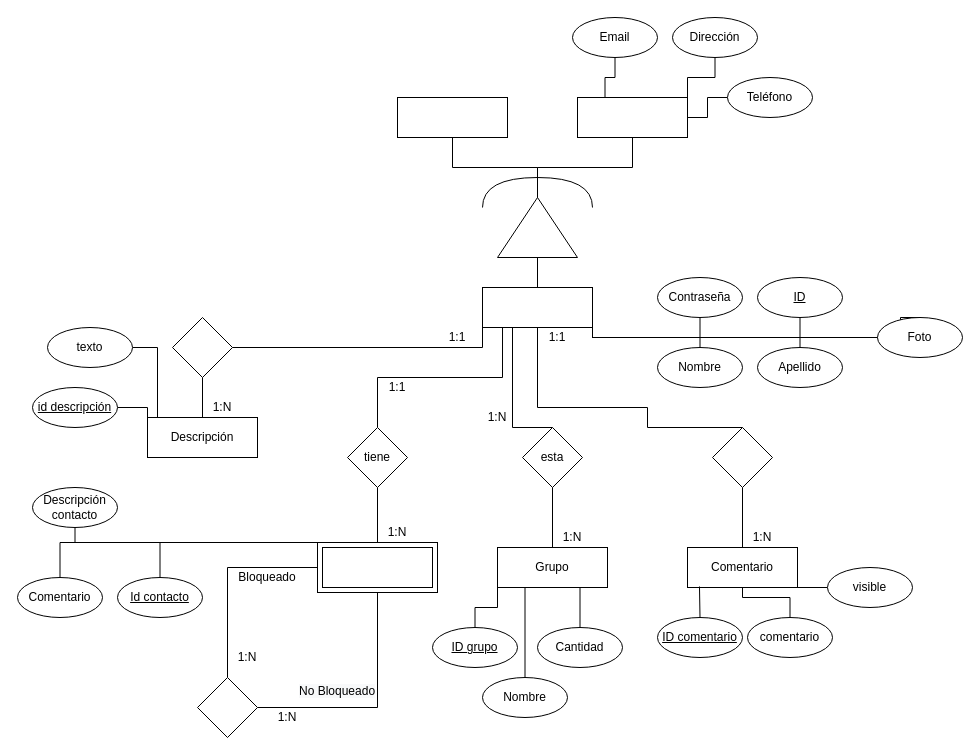
Some shapes in this 980 by 755 pixel diagram are drawn without their labels. The shapes that lost their labels are listed below. From the top down, each one's centre as x and y in pixels, then its label:
[452,117]: Celebridad
[632,117]: No Celebridad
[537,307]: Usuario
[202,347]: define
[742,457]: escribe
[377,567]: Contacto
[227,707]: bloquear
